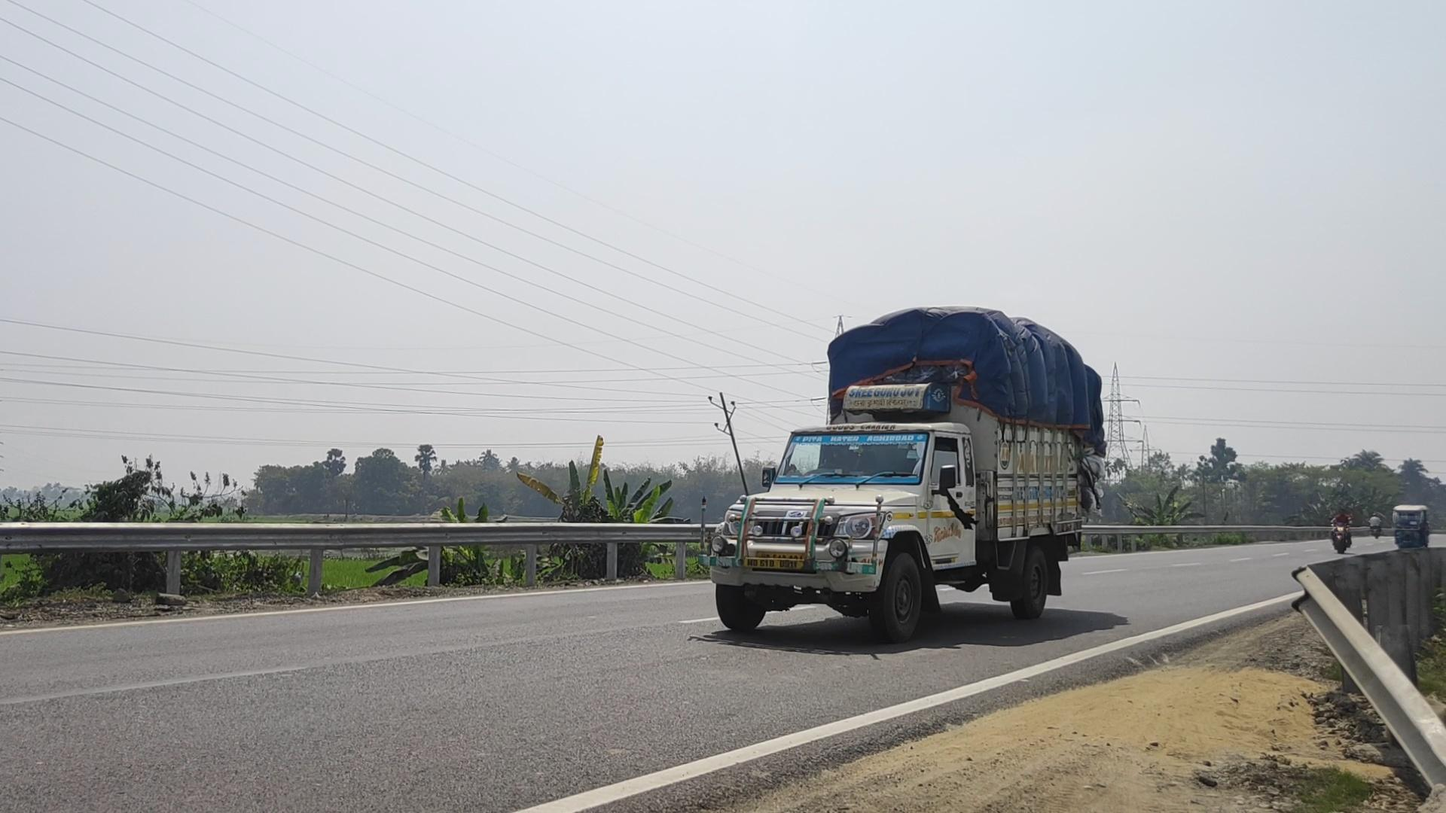Auto: (1390, 504, 1432, 552)
bike: (1329, 507, 1354, 556)
van: (698, 306, 1105, 643)
